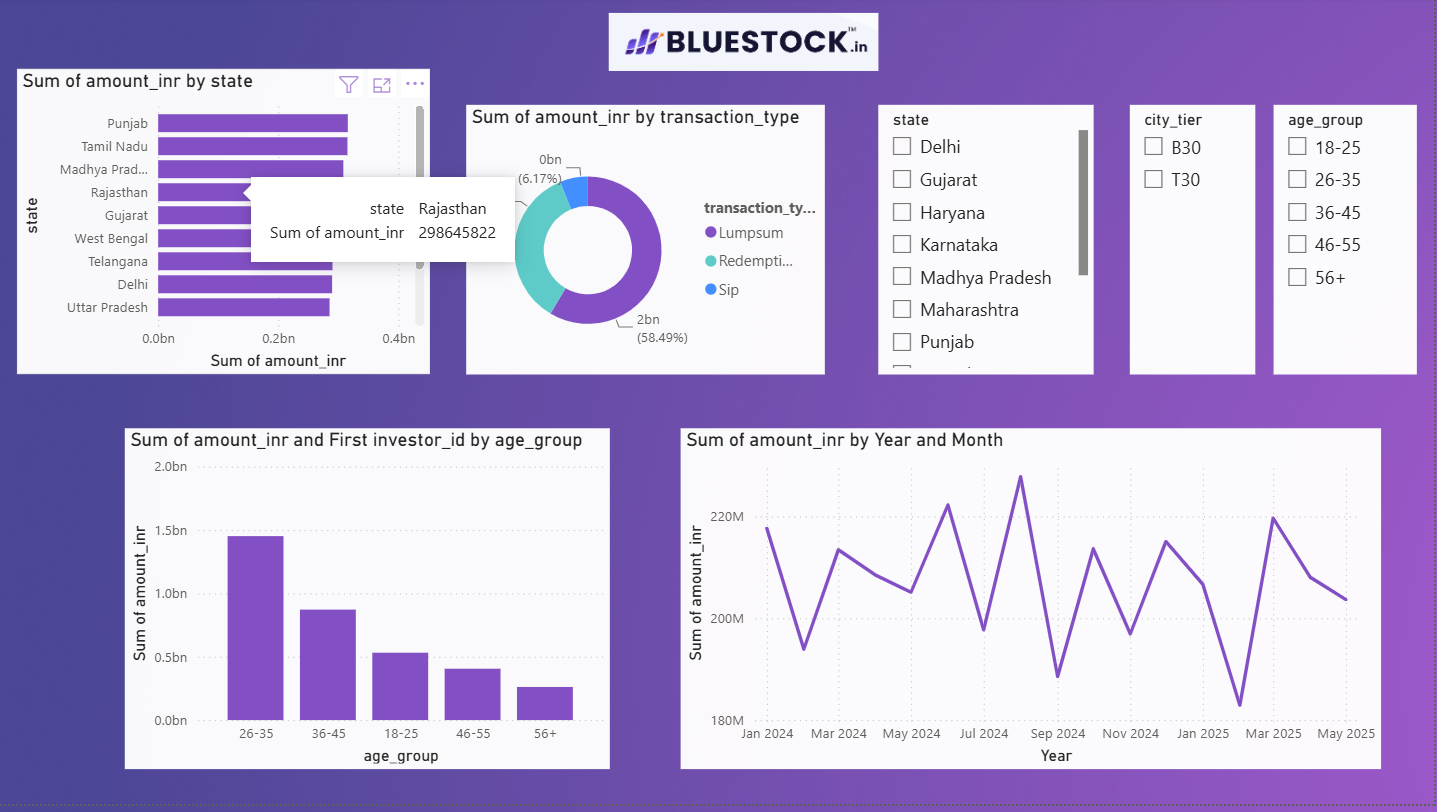

Layout of this report page (visuals, bound fields, positions):
{"tool":"powerbi","page":{"name":"Page 3 - Investor Analytics","canvas":[1280,720],"ordinal":2},"visuals":[{"type":"clusteredBarChart","fields":{"Category":["investor_transactions_cleaned.state"],"Y":["Sum(investor_transactions_cleaned.amount_inr)"]},"box":[16,64,368,272],"z":0},{"type":"donutChart","fields":{"Category":["investor_transactions_cleaned.transaction_type"],"Y":["Sum(investor_transactions_cleaned.amount_inr)"]},"box":[416,96,320,240],"z":1000},{"type":"clusteredColumnChart","fields":{"Category":["investor_transactions_cleaned.age_group"],"Y":["Sum(investor_transactions_cleaned.amount_inr)"]},"box":[112,384,432,304],"z":2000},{"type":"lineChart","fields":{"Y":["Sum(investor_transactions_cleaned.amount_inr)"],"Category":["investor_transactions_cleaned.transaction_date.Variation.Date Hierarchy.Year","investor_transactions_cleaned.transaction_date.Variation.Date Hierarchy.Month"]},"box":[608,384,624,304],"z":3000},{"type":"slicer","fields":{"Values":["investor_transactions_cleaned.state"]},"box":[784,96,192,240],"z":4000},{"type":"slicer","fields":{"Values":["investor_transactions_cleaned.city_tier"]},"box":[1008,96,112,240],"z":5000},{"type":"slicer","fields":{"Values":["investor_transactions_cleaned.age_group"]},"box":[1136,96,128,240],"z":6000},{"type":"image","box":[544,0,240,80],"z":6001}]}

Visuals, with their boxes in screenshot pixels (x1, y1, x2, y2), scaled from the page's 1280x720 canvas onto the 1437x812 screenshot:
clusteredBarChart - investor_transactions_cleaned.state x Sum(investor_transactions_cleaned.amount_inr): 18/72/431/379
donutChart - investor_transactions_cleaned.transaction_type x Sum(investor_transactions_cleaned.amount_inr): 467/108/826/379
clusteredColumnChart - investor_transactions_cleaned.age_group x Sum(investor_transactions_cleaned.amount_inr): 126/433/611/776
lineChart - Sum(investor_transactions_cleaned.amount_inr) x investor_transactions_cleaned.transaction_date.Variation.Date Hierarchy.Year: 683/433/1383/776
slicer - investor_transactions_cleaned.state: 880/108/1096/379
slicer - investor_transactions_cleaned.city_tier: 1132/108/1257/379
slicer - investor_transactions_cleaned.age_group: 1275/108/1419/379
image: 611/0/880/90
